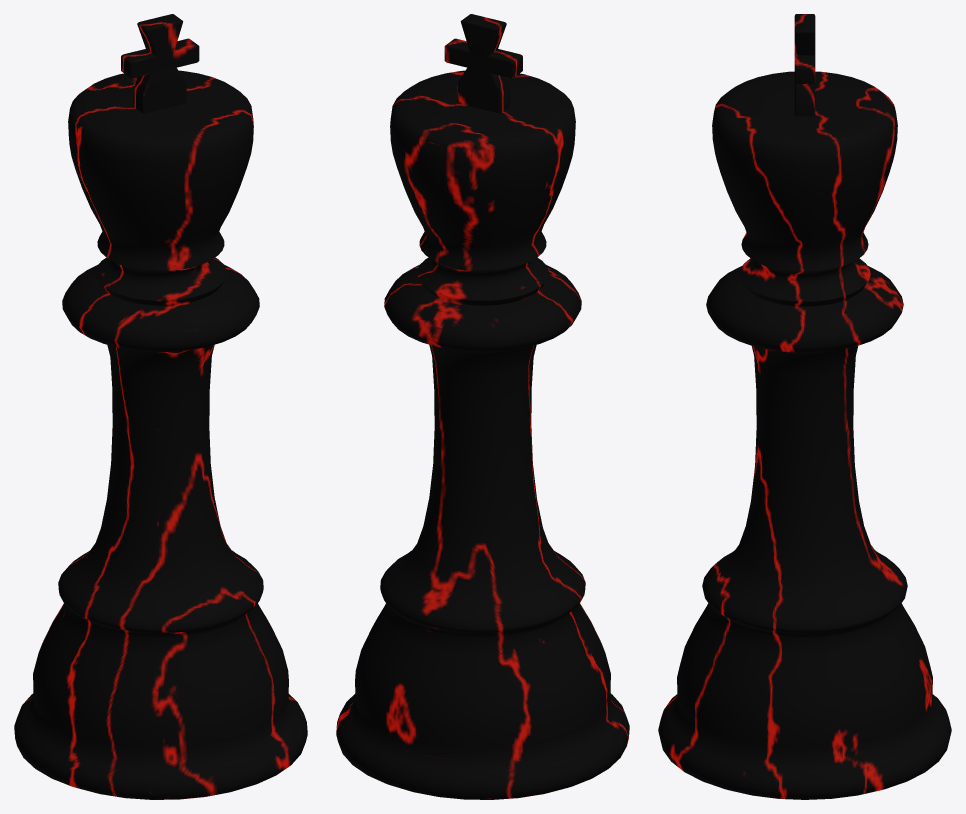
The model's file is BlackKing.glb.
3 renders of one model, left to right at view 1: azimuth 30°, elevation 25°; view 2: azimuth 150°, elevation 25°; view 3: azimuth 270°, elevation 25°, orthographic.
Visible parts, largest first — view 1: King; view 2: King; view 3: King.
Boxes of the visible parts, x1=… form: King: x1=14, y1=14, x2=307, y2=799; King: x1=336, y1=14, x2=629, y2=799; King: x1=658, y1=14, x2=951, y2=799.
Size of the model in its own units: 0.2165 by 0.5856 by 0.2165.
1 material, 1 textured.
